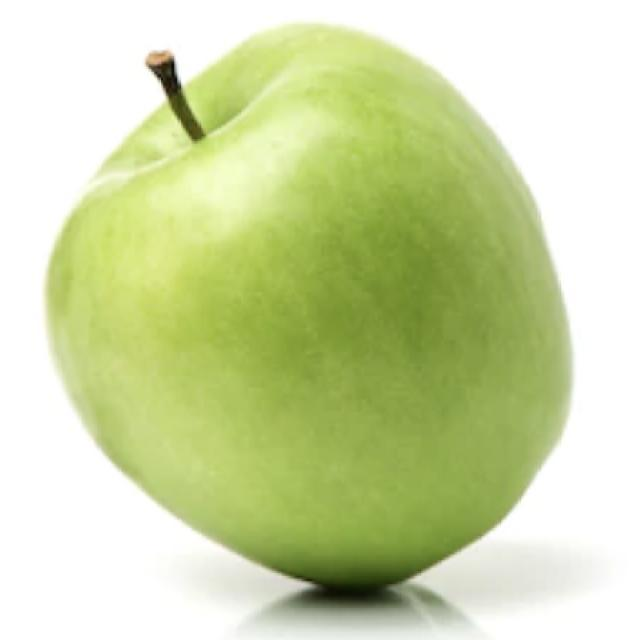Fresh Apple: (60, 28, 563, 580)
